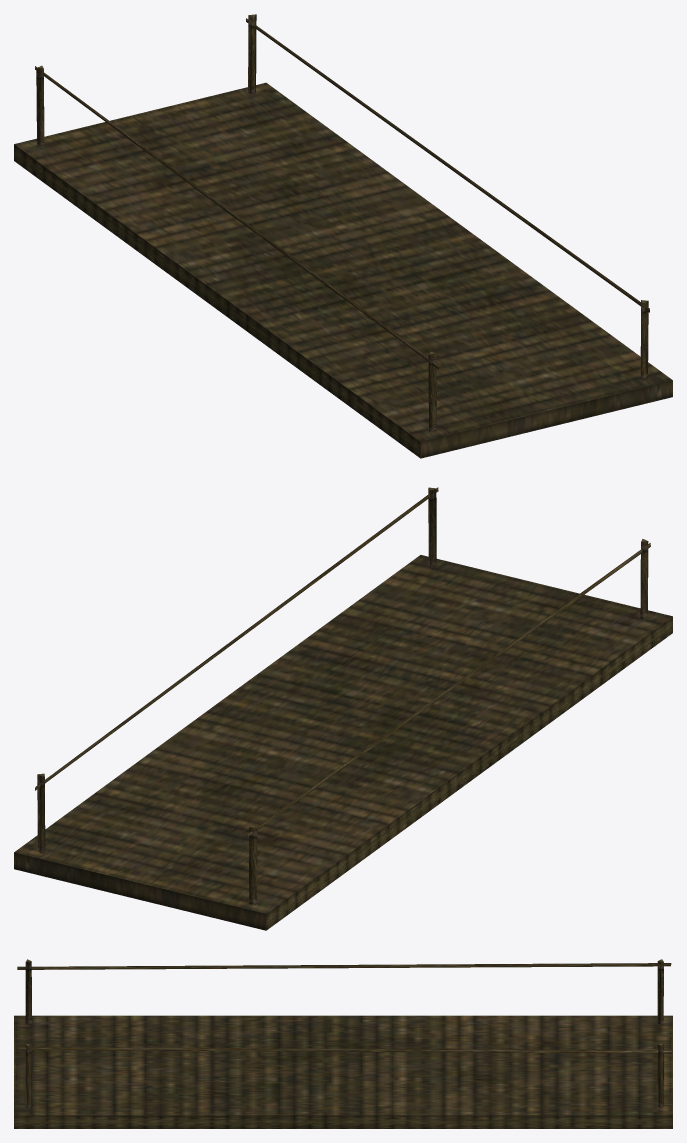
File: thm_endr_village_tree_catwlk_s01_l2.fbx
3 views of the same model, one above another, from view 1: azimuth 30°, elevation 25°; view 2: azimuth 150°, elevation 25°; view 3: azimuth 270°, elevation 25° (orthographic). The views are drawn at different scales.
Visible parts, largest first — view 1: mesh_node; view 2: mesh_node; view 3: mesh_node.
Part boxes in pixels (box(x1,y1,x2,y2)): mesh_node: box(14, 14, 672, 458); mesh_node: box(14, 487, 672, 930); mesh_node: box(14, 959, 672, 1128).
Size of the model in its own units: 3.58 by 1.28 by 10.
